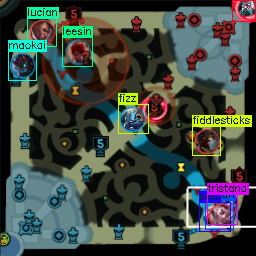fiddlesticks: (195, 129, 220, 155)
fizz: (119, 107, 146, 131)
leesin: (64, 40, 90, 66)
lucian: (30, 19, 55, 45)
maokai: (10, 53, 36, 79)
rakan: (210, 204, 235, 228)
sett: (202, 205, 227, 229)
tristana: (214, 191, 238, 215)
zilean: (236, 1, 256, 21)
